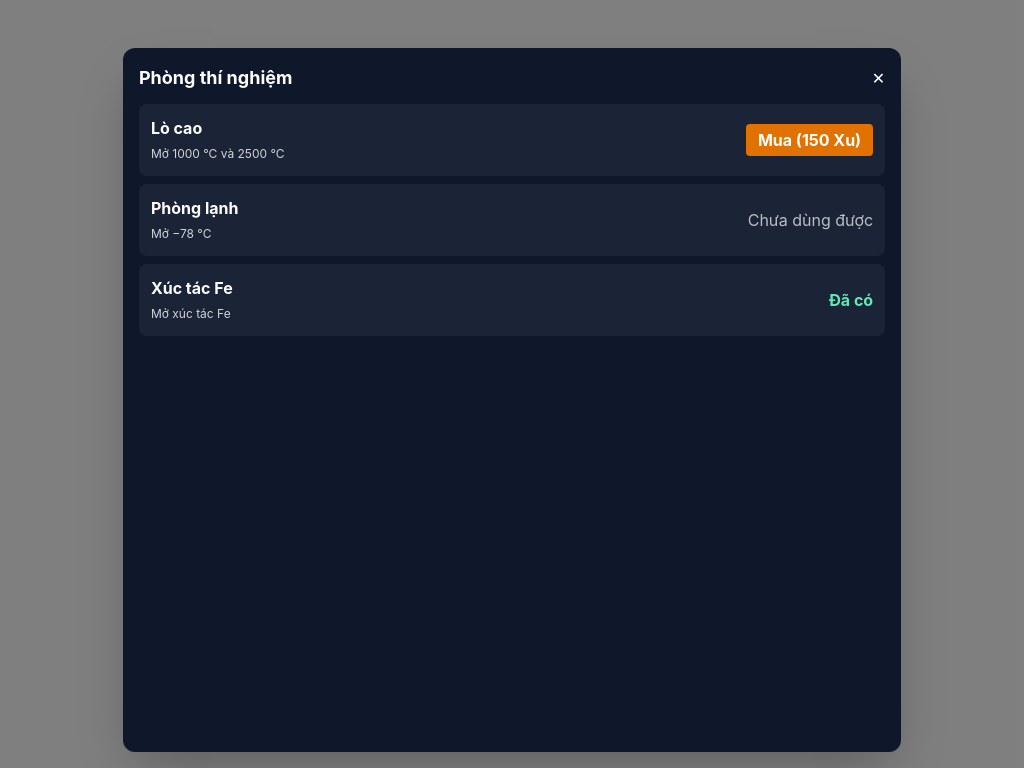
a later successful buy clears the stale error
This screenshot has width=1024, height=768.
Click the button "Mua (150 Xu)": coordinates (810, 140) [746,124,873,156]
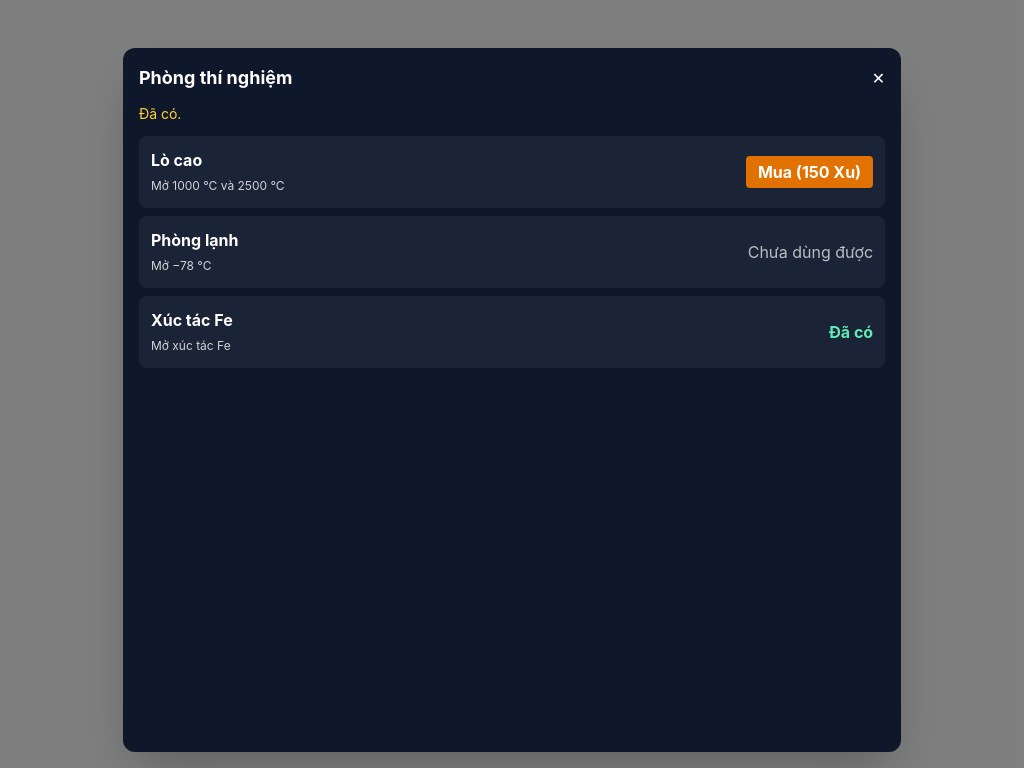
expect the message "Đã có." is shown: met, box [139,105,181,122]
Click the button "Mua (150 Xu)": coordinates (810, 172) [746,156,873,188]
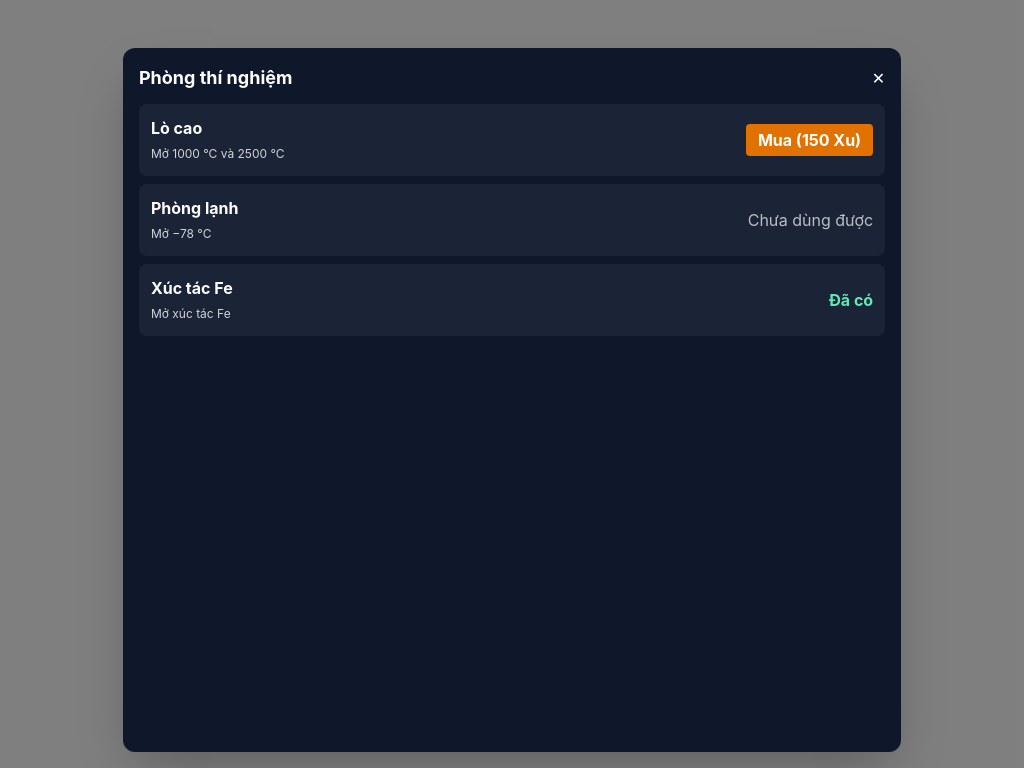
expect the message "Đã có." is gone: met
